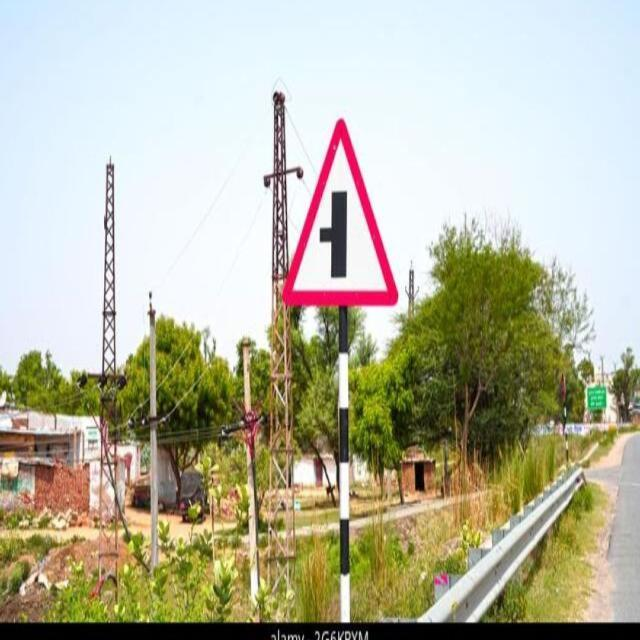side road left: (280, 113, 403, 310)
